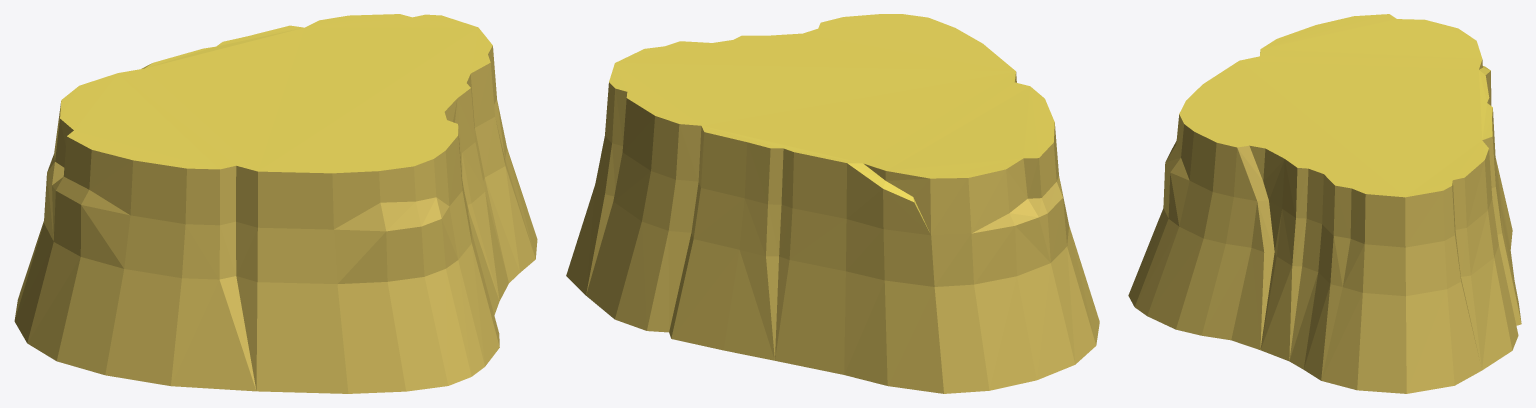
Rendered from Islands_10.FBX.
3 views of the same model, side by side, from view 1: azimuth 30°, elevation 25°; view 2: azimuth 150°, elevation 25°; view 3: azimuth 270°, elevation 25° (orthographic). The views are drawn at different scales.
Visible parts, largest first — view 1: Islands_10; view 2: Islands_10; view 3: Islands_10.
Part boxes in pixels (<box>): Islands_10: <box>14,14,537,393</box>; Islands_10: <box>566,14,1099,393</box>; Islands_10: <box>1128,14,1521,393</box>.
Bounding box in the file's own units: 4805 × 1860 × 3669.
